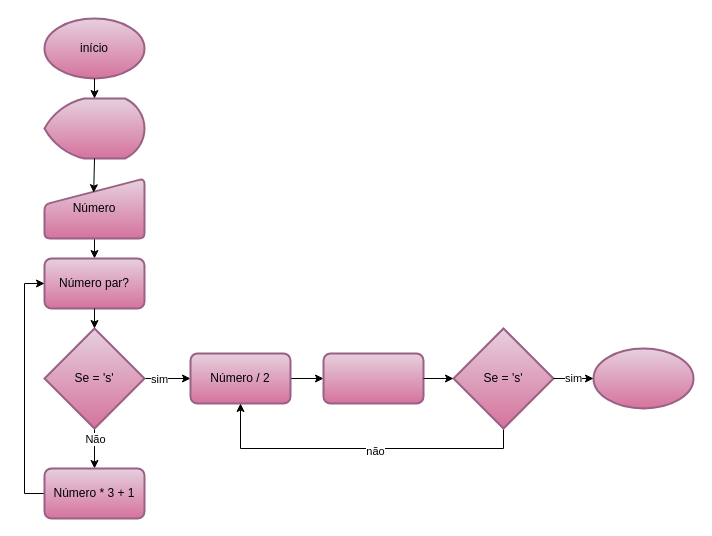
This 712x536 diagram has some shape labels left out. The centre of each missing label's shape, as x and y in pixels:
"Fim" belongs at pixel 643 378.
"Informe um número diferente de 1" belongs at pixel 94 128.
"Número é igual a 1?" belongs at pixel 373 378.
